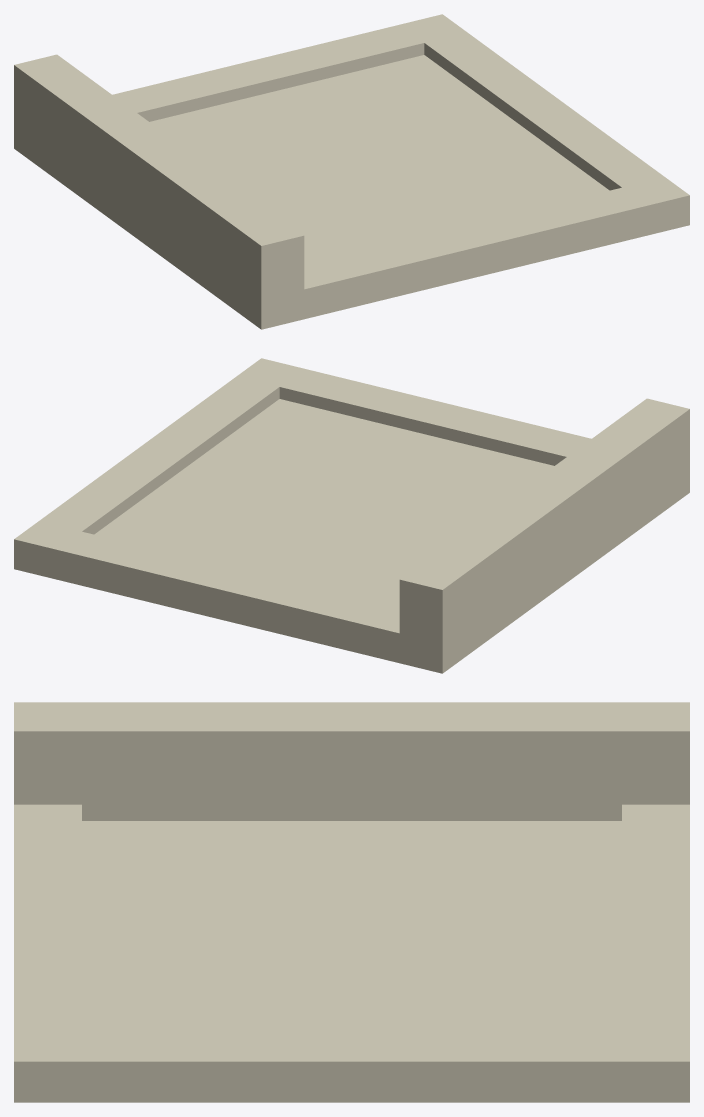
File: Roof 10.FBX
3 renders of one model, top to bottom at view 1: azimuth 30°, elevation 25°; view 2: azimuth 150°, elevation 25°; view 3: azimuth 270°, elevation 25°, orthographic. The views are drawn at different scales.
Parts seen in each view (by area): view 1: Group168; view 2: Group168; view 3: Group168.
Boxes of the visible parts, x1,y1,x2,y2 form: Group168: (14,14,689,329); Group168: (14,358,689,673); Group168: (14,702,689,1102).
Bounding box in the file's own units: 29.53 × 5.51 × 29.53.
